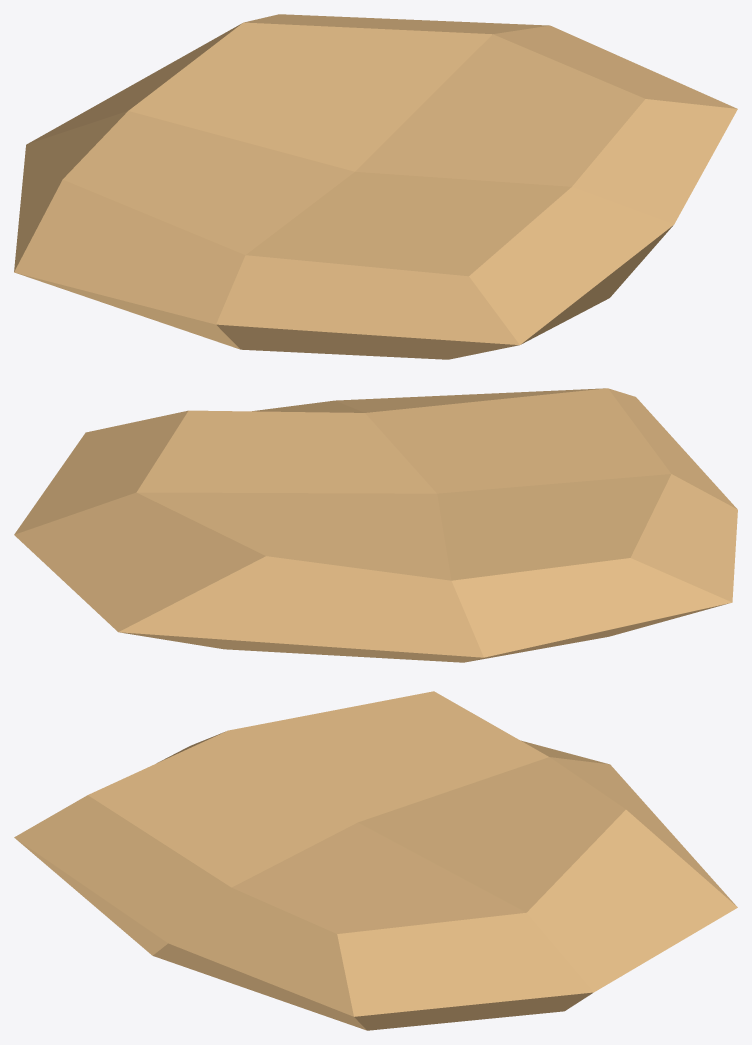
File: Stone_04_Var_06.fbx
3 views of the same model, one above another, from view 1: azimuth 30°, elevation 25°; view 2: azimuth 150°, elevation 25°; view 3: azimuth 270°, elevation 25° (orthographic). The views are drawn at different scales.
Parts seen in each view (by area): view 1: Stone_04_Var_06; view 2: Stone_04_Var_06; view 3: Stone_04_Var_06.
Part boxes in pixels (x1,y1,x2,y2): Stone_04_Var_06: [14, 14, 737, 359]; Stone_04_Var_06: [14, 388, 737, 662]; Stone_04_Var_06: [14, 691, 737, 1030].
Size of the model in its own units: 6.36 by 0.9677 by 6.54.
